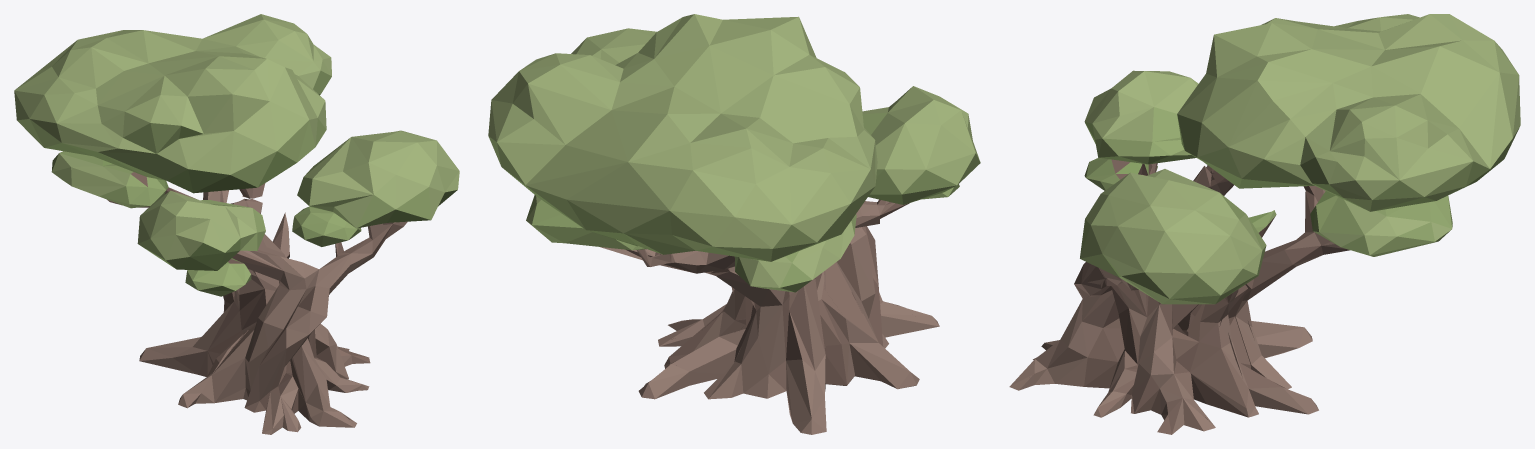
The model's file is hero_tree.glb.
The picture shows the model from 3 angles, left to right: view 1: azimuth 30°, elevation 25°; view 2: azimuth 150°, elevation 25°; view 3: azimuth 270°, elevation 25°; orthographic projection. The views are drawn at different scales.
Bounding box in the file's own units: 1.65 × 1.4 × 1.9.
